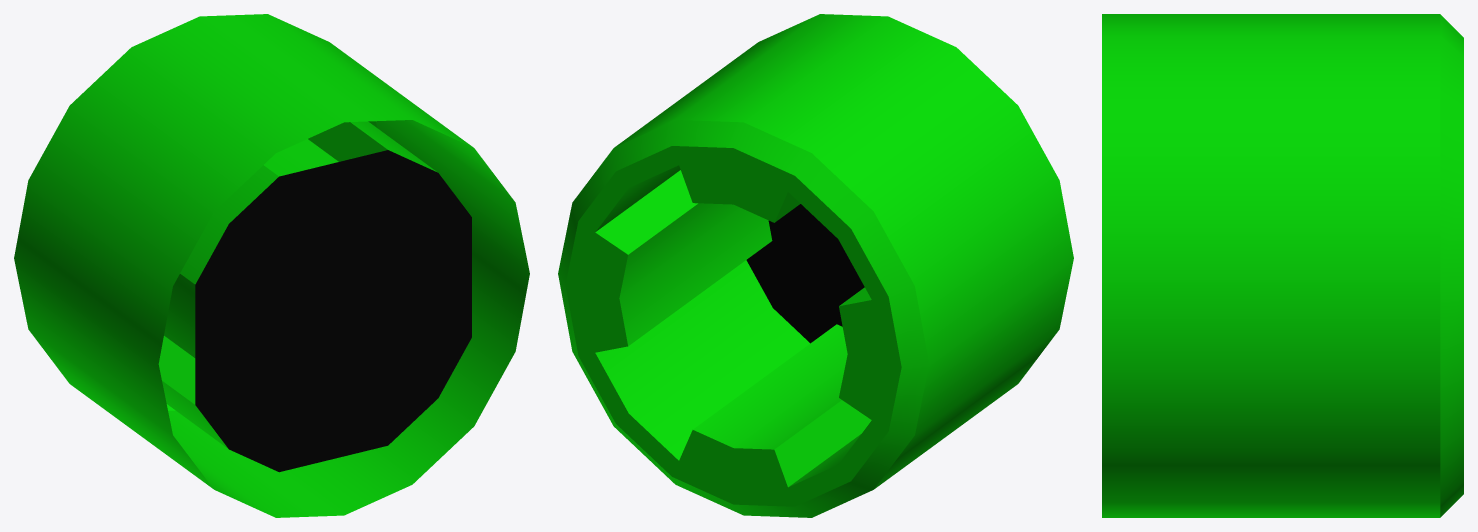
The model's file is ReactorBot_LVL3.FBX.
The picture shows the model from 3 angles, left to right: view 1: azimuth 30°, elevation 25°; view 2: azimuth 150°, elevation 25°; view 3: azimuth 270°, elevation 25°; orthographic projection. The views are drawn at different scales.
Visible parts, largest first — view 1: ReactorBot_LVL3; view 2: ReactorBot_LVL3; view 3: ReactorBot_LVL3.
Part boxes in pixels (x1,y1,x2,y2): ReactorBot_LVL3: [14, 14, 529, 517]; ReactorBot_LVL3: [558, 14, 1073, 517]; ReactorBot_LVL3: [1102, 14, 1463, 517].
Bounding box in the file's own units: 31.78 × 32.15 × 22.94.
